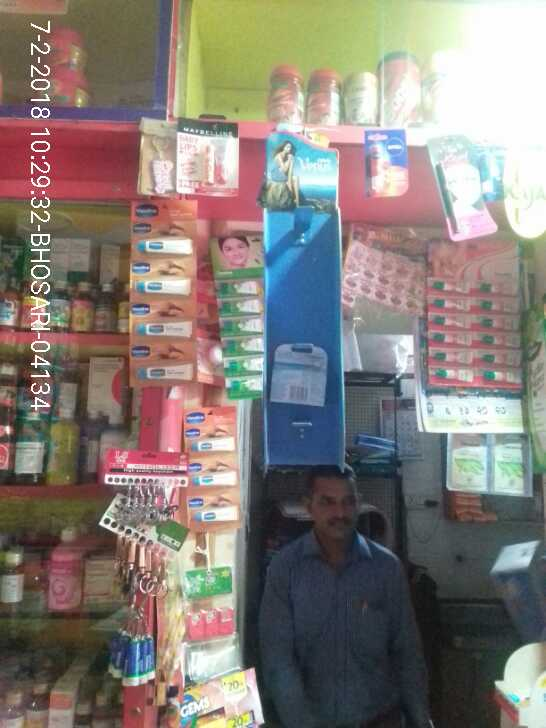reject: (309, 315, 380, 364)
